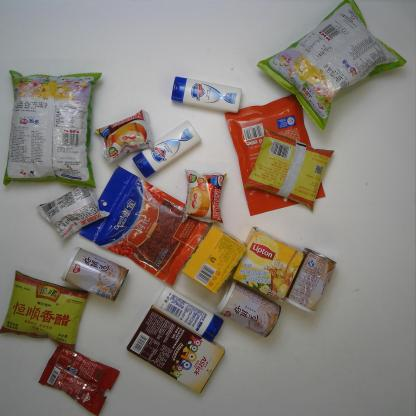Canned Food: (61, 247, 129, 302), (216, 281, 283, 336), (287, 247, 336, 312)
Dessert: (126, 308, 226, 393), (35, 184, 111, 240), (94, 112, 155, 163), (181, 168, 223, 223)
Dried Fruit: (77, 164, 212, 287), (223, 94, 326, 217)
Instant Drink: (37, 344, 121, 412), (232, 226, 305, 301), (180, 222, 248, 294)
Personal Hygiene: (131, 120, 201, 176), (155, 286, 224, 342), (168, 74, 242, 116)
Puffed Food: (254, 0, 406, 132), (4, 67, 103, 192)
Seasoner: (1, 269, 88, 351), (248, 130, 334, 212)
